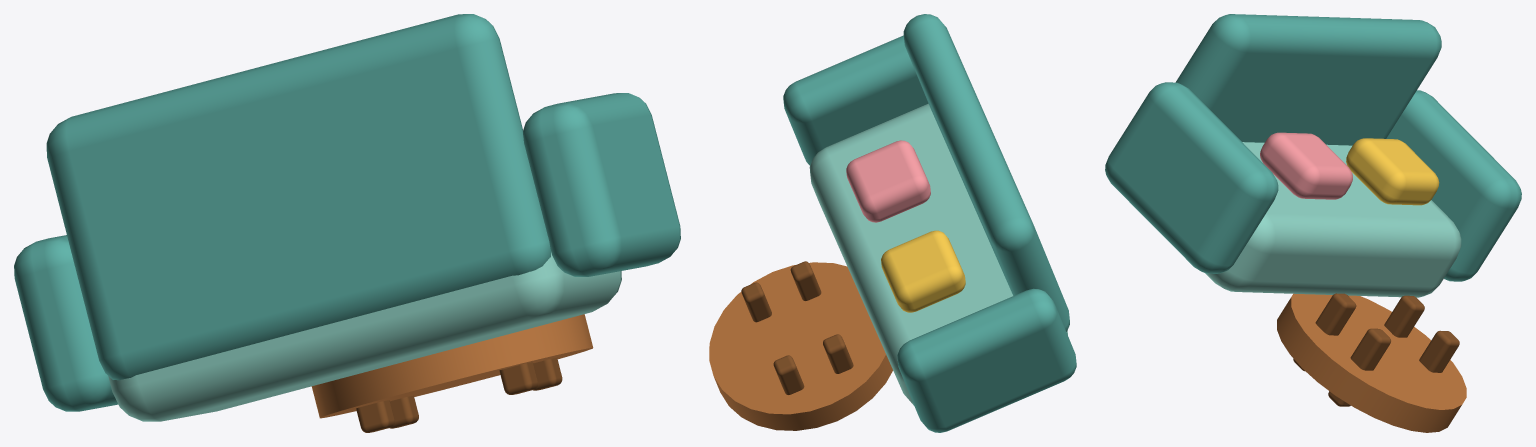
The model's file is seating.glb.
3 views of the same model, side by side, from view 1: azimuth 30°, elevation 25°; view 2: azimuth 150°, elevation 25°; view 3: azimuth 270°, elevation 25° (orthographic). The views are drawn at different scales.
Size of the model in its own units: 1.69 by 1.6 by 1.62.
